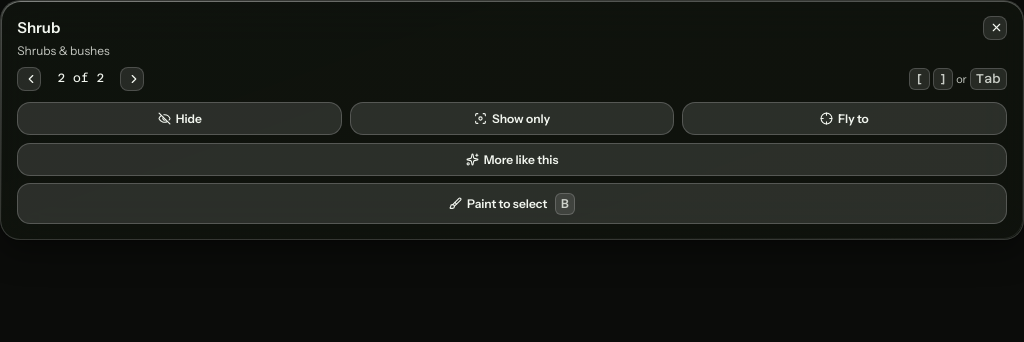
More like this › shows only the matches, and Clear gives the highlight back to the selection
This screenshot has width=1024, height=342.
What coordinates should you click on to do the following:
click the button "More like this"
I would click on:
 (512, 159)
Its box is left=17, top=143, right=1007, bottom=176.
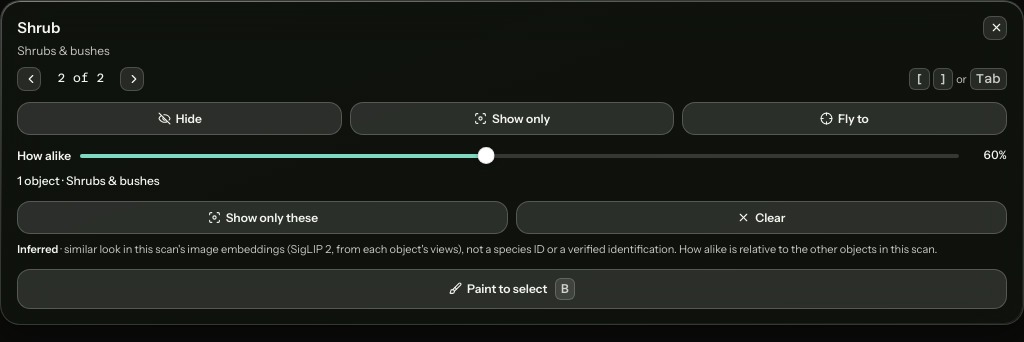
Result: the message "1 object · Shrubs & bushes" is shown at left=17, top=173, right=160, bottom=188
What coordinates should you click on to do the following:
click the button "Show only these"
I would click on:
 (263, 218)
Its box is left=17, top=201, right=508, bottom=234.
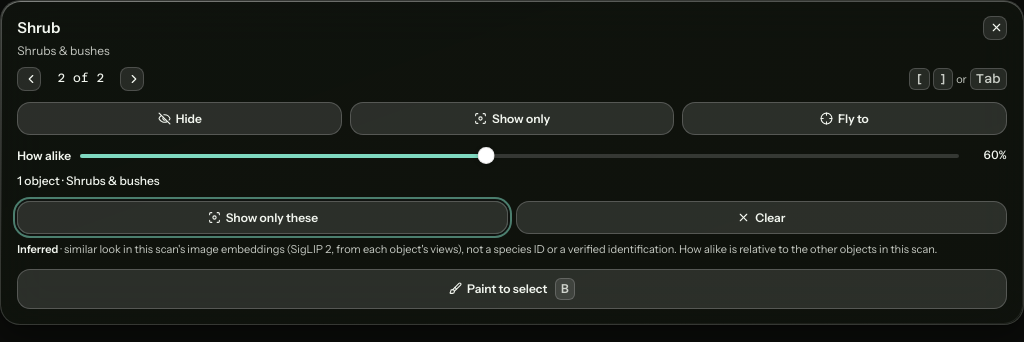
What coordinates should you click on to do the following:
click the button "Clear"
I would click on:
 (761, 218)
Its box is left=516, top=201, right=1007, bottom=234.
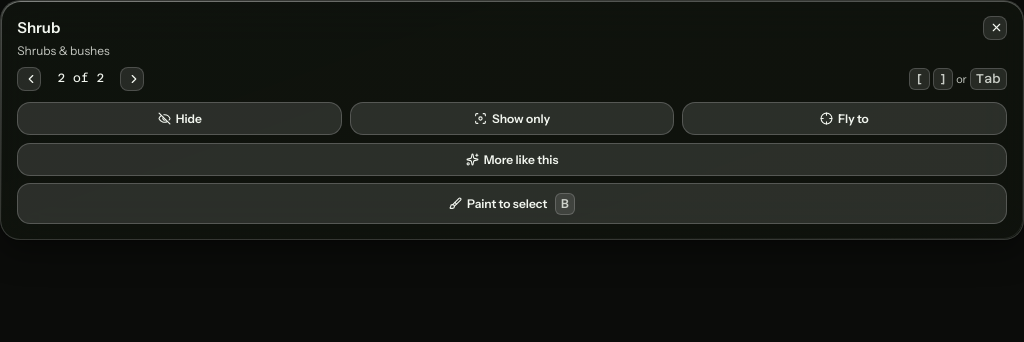
Result: the button "More like this" is shown at left=17, top=143, right=1007, bottom=176
